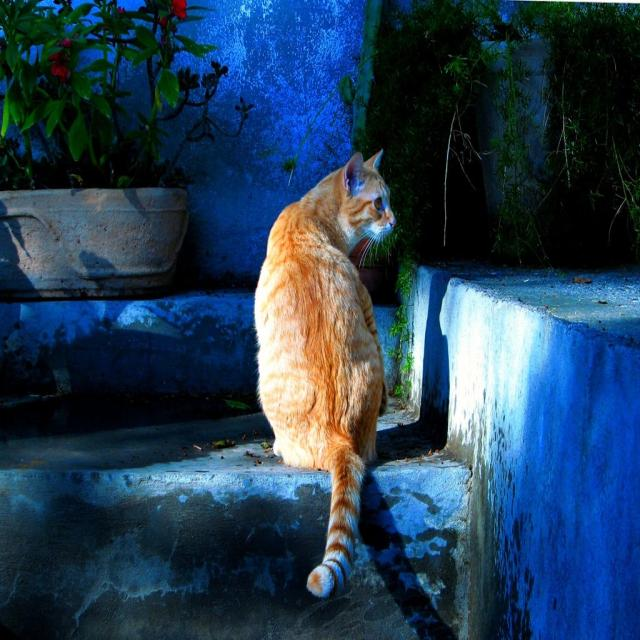Cat: (232, 141, 399, 610)
